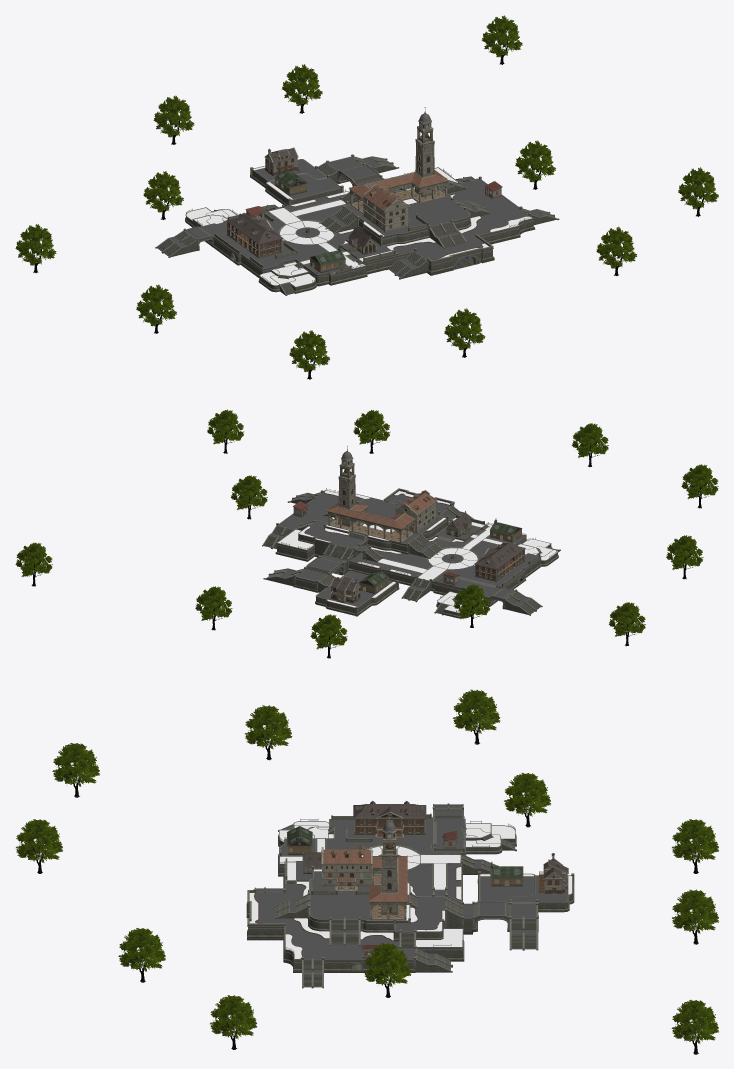
Rendered from new_clock_tower_map_free_fire_max.glb.
3 renders of one model, top to bottom at view 1: azimuth 30°, elevation 25°; view 2: azimuth 150°, elevation 25°; view 3: azimuth 270°, elevation 25°, orthographic. The views are drawn at different scales.
Parts seen in each view (by area): view 1: HD_Building_Foundation001_Floor001_LOD0_0_4, HD_Building_Foundation001_Wall002_LOD0_4_16, HD_Building_Foundation001_Wall001_LOD0_3_12, HD_Building_Foundation001_Floor002_LOD0_1_6, HD_Bellhouse_Corridor001_LOD0_10_34, HD_Mansion_A001_LOD0_12_39, HD_House_Huge_A001_LOD0_8_26, HD_ClockTower001_LOD0_6_21, HD_Green_Tree_L01_LOD0.001_35_78, HD_Green_Tree_L01_LOD0.010_44_96, HD_Green_Tree_L01_LOD0.009_43_94, HD_Green_Tree_L01_LOD0.002_36_80 (+10 smaller); view 2: HD_Building_Foundation001_Floor001_LOD0_0_4, HD_Building_Foundation001_Wall002_LOD0_4_16, HD_Building_Foundation001_Wall001_LOD0_3_12, HD_Building_Foundation001_Floor002_LOD0_1_6, HD_Bellhouse_Corridor001_LOD0_10_34, HD_Mansion_A001_LOD0_12_39, HD_House_Huge_A001_LOD0_8_26, HD_ClockTower001_LOD0_6_21, HD_Green_Tree_L01_LOD0.006_40_88, HD_Green_Tree_L01_LOD0.009_43_94, HD_Green_Tree_L01_LOD0.004_38_84, HD_Green_Tree_L01_LOD0.003_37_82 (+11 smaller); view 3: HD_Building_Foundation001_Floor001_LOD0_0_4, HD_Building_Foundation001_Wall002_LOD0_4_16, HD_Building_Foundation001_Floor002_LOD0_1_6, HD_Building_Foundation001_Wall001_LOD0_3_12, HD_Mansion_A001_LOD0_12_39, HD_House_Huge_A001_LOD0_8_26, HD_Bellhouse_Corridor001_LOD0_10_34, HD_Green_Tree_L01_LOD0.002_36_80, HD_Green_Tree_L01_LOD0.009_43_94, HD_Green_Tree_L01_LOD0.006_40_88, HD_Green_Tree_L01_LOD0.010_44_96, HD_Green_Tree_L01_LOD0.001_35_78 (+10 smaller).
Part boxes in pixels (x1,y1,x2,y2): HD_Building_Foundation001_Floor001_LOD0_0_4: (170, 157, 543, 274); HD_Building_Foundation001_Wall002_LOD0_4_16: (317, 154, 559, 279); HD_Building_Foundation001_Wall001_LOD0_3_12: (155, 159, 413, 295); HD_Building_Foundation001_Floor002_LOD0_1_6: (186, 166, 531, 286); HD_Bellhouse_Corridor001_LOD0_10_34: (349, 170, 448, 213); HD_Mansion_A001_LOD0_12_39: (226, 213, 283, 258); HD_House_Huge_A001_LOD0_8_26: (362, 184, 410, 232); HD_ClockTower001_LOD0_6_21: (415, 107, 435, 197); HD_Green_Tree_L01_LOD0.001_35_78: (153, 95, 194, 144); HD_Green_Tree_L01_LOD0.010_44_96: (15, 224, 56, 273); HD_Green_Tree_L01_LOD0.009_43_94: (136, 284, 176, 333); HD_Green_Tree_L01_LOD0.002_36_80: (282, 64, 322, 113); HD_Building_Foundation001_Floor001_LOD0_0_4: (270, 492, 536, 606); HD_Building_Foundation001_Wall002_LOD0_4_16: (262, 488, 473, 592); HD_Building_Foundation001_Wall001_LOD0_3_12: (315, 514, 560, 618); HD_Building_Foundation001_Floor002_LOD0_1_6: (278, 490, 557, 612); HD_Bellhouse_Corridor001_LOD0_10_34: (327, 502, 415, 543); HD_Mansion_A001_LOD0_12_39: (474, 541, 525, 581); HD_House_Huge_A001_LOD0_8_26: (394, 490, 437, 533); HD_ClockTower001_LOD0_6_21: (338, 445, 356, 526); HD_Green_Tree_L01_LOD0.006_40_88: (207, 409, 243, 453); HD_Green_Tree_L01_LOD0.009_43_94: (666, 535, 703, 579); HD_Green_Tree_L01_LOD0.004_38_84: (571, 423, 608, 467); HD_Green_Tree_L01_LOD0.003_37_82: (15, 542, 52, 586); HD_Building_Foundation001_Floor001_LOD0_0_4: (255, 805, 567, 973); HD_Building_Foundation001_Wall002_LOD0_4_16: (246, 866, 538, 988); HD_Building_Foundation001_Floor002_LOD0_1_6: (249, 822, 571, 958); HD_Building_Foundation001_Wall001_LOD0_3_12: (278, 803, 574, 912); HD_Mansion_A001_LOD0_12_39: (353, 801, 426, 838); HD_House_Huge_A001_LOD0_8_26: (321, 845, 373, 890); HD_Bellhouse_Corridor001_LOD0_10_34: (368, 855, 407, 919); HD_Green_Tree_L01_LOD0.002_36_80: (672, 889, 718, 944); HD_Green_Tree_L01_LOD0.009_43_94: (245, 705, 292, 760); HD_Green_Tree_L01_LOD0.006_40_88: (210, 995, 257, 1049); HD_Green_Tree_L01_LOD0.010_44_96: (453, 689, 500, 744); HD_Green_Tree_L01_LOD0.001_35_78: (672, 819, 718, 873).
Size of what is drawn, in the model's own units: 2.9 by 0.5095 by 2.62.
Materials: 51 (49 with a texture image).
